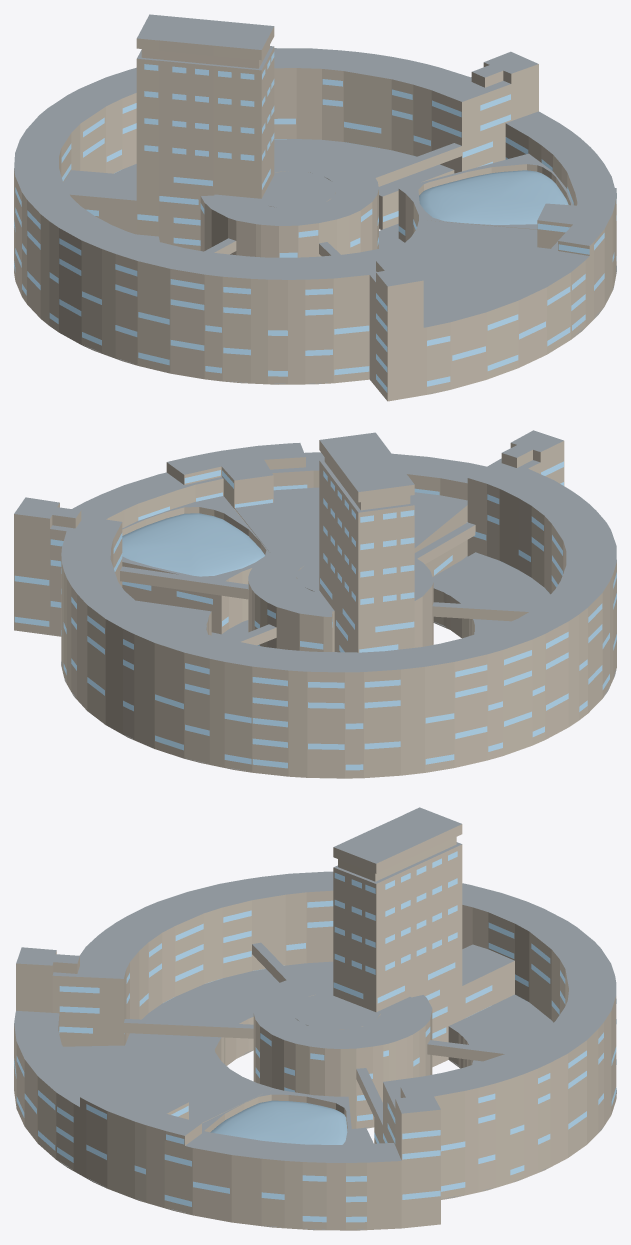
The model's file is detail.glb.
3 renders of one model, top to bottom at view 1: azimuth 30°, elevation 25°; view 2: azimuth 150°, elevation 25°; view 3: azimuth 270°, elevation 25°, orthographic.
Parts seen in each view (by area): view 1: stone, roof, window, glass; view 2: stone, roof, window, glass; view 3: stone, roof, window, glass.
Part boxes in pixels (bbox=[...]): stone: bbox=[14, 27, 616, 401]; roof: bbox=[14, 14, 616, 393]; window: bbox=[14, 52, 616, 392]; glass: bbox=[419, 170, 568, 224]; stone: bbox=[14, 440, 616, 778]; roof: bbox=[14, 430, 616, 770]; window: bbox=[14, 461, 616, 770]; glass: bbox=[122, 513, 264, 576]; stone: bbox=[14, 824, 616, 1230]; roof: bbox=[14, 807, 616, 1229]; window: bbox=[14, 851, 616, 1222]; glass: bbox=[210, 1100, 347, 1144].
Bounding box in the file's own units: 162 × 68 × 162.
